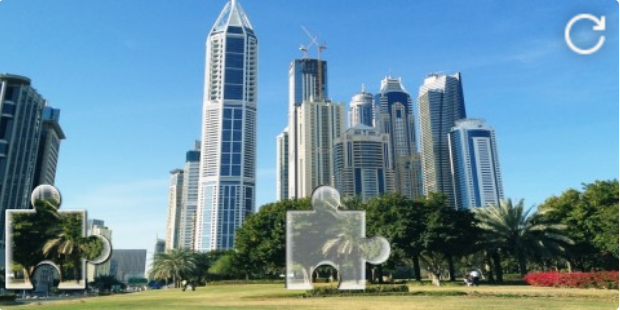target: (285, 185, 391, 289)
